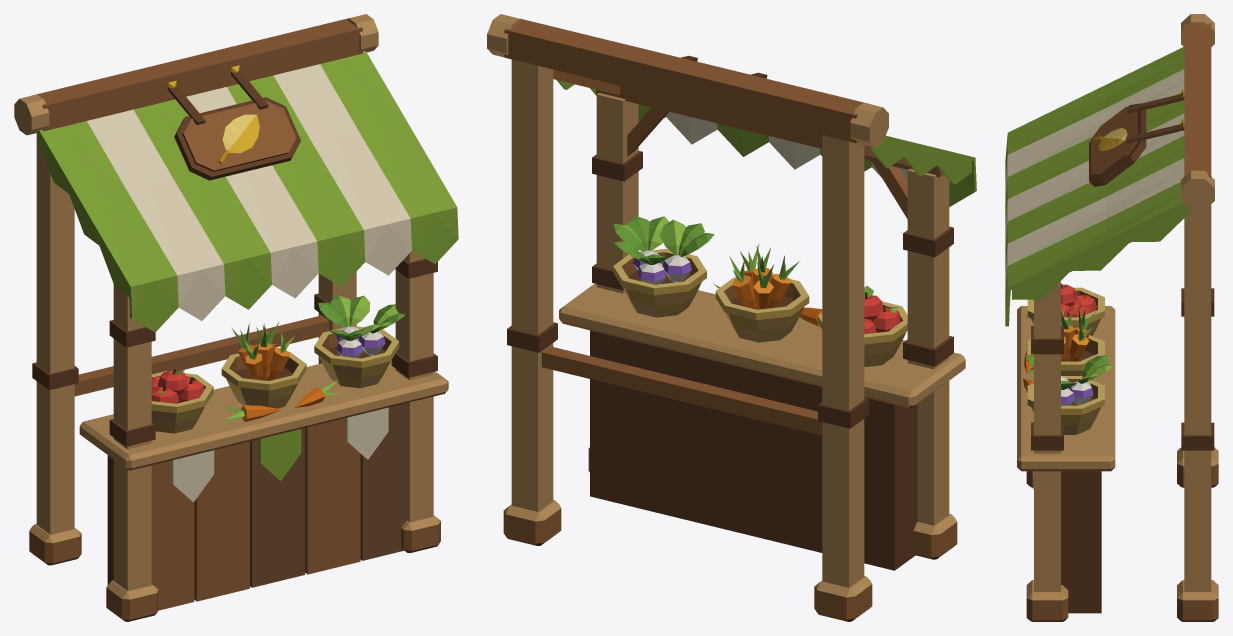
File: market_stall.glb
The picture shows the model from 3 angles, left to right: view 1: azimuth 30°, elevation 25°; view 2: azimuth 150°, elevation 25°; view 3: azimuth 270°, elevation 25°; orthographic projection. The views are drawn at different scales.
Parts seen in each view (by area): view 1: market_stall; view 2: market_stall; view 3: market_stall.
Part boxes in pixels (x1,y1,x2,y2): market_stall: (14,14,458,621); market_stall: (487,14,976,621); market_stall: (1005,14,1218,621).
Size of the model in its own units: 1.87 by 2.38 by 1.02.
